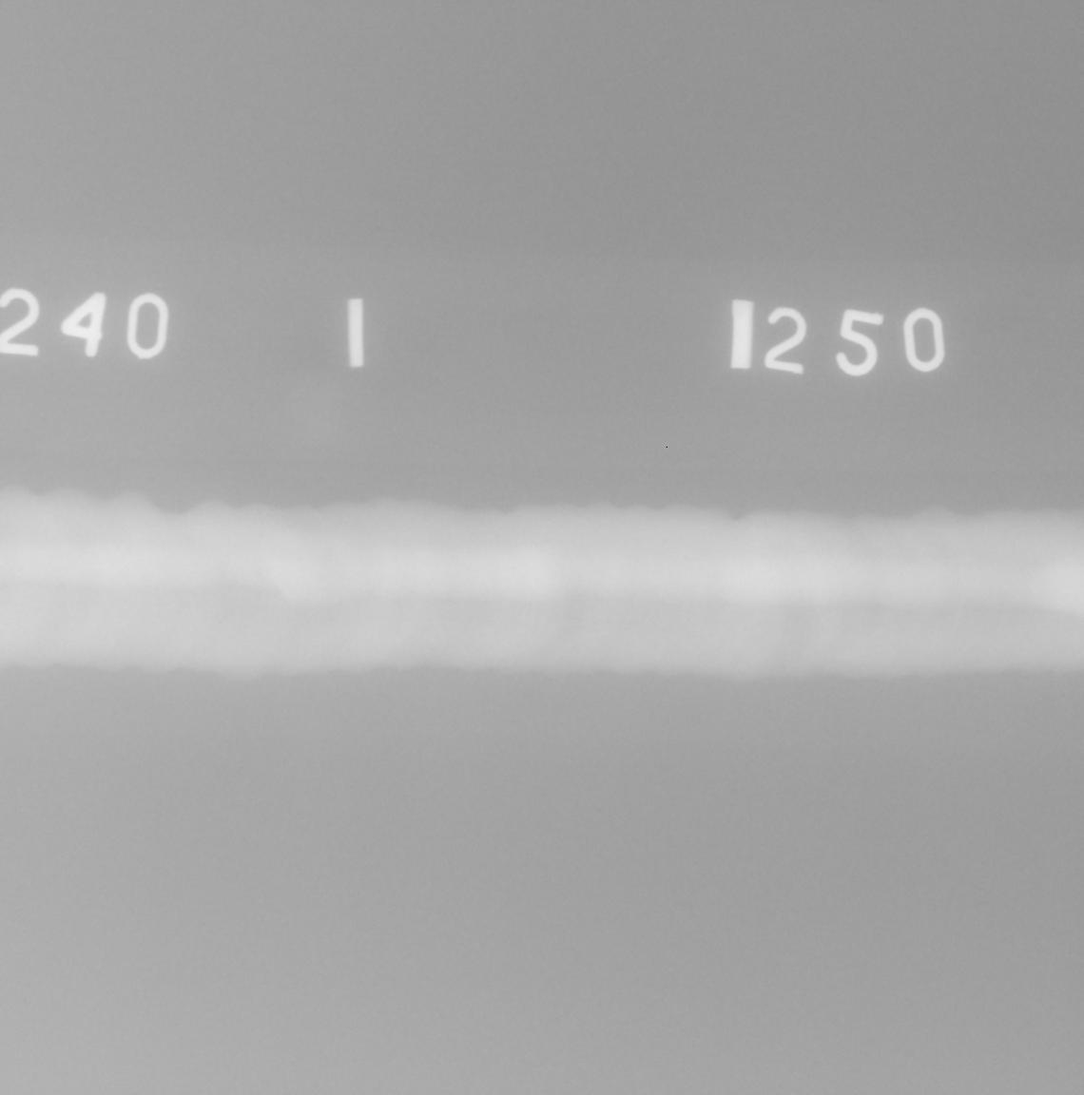Inclusion: (632, 537, 653, 540), (965, 562, 973, 569)
